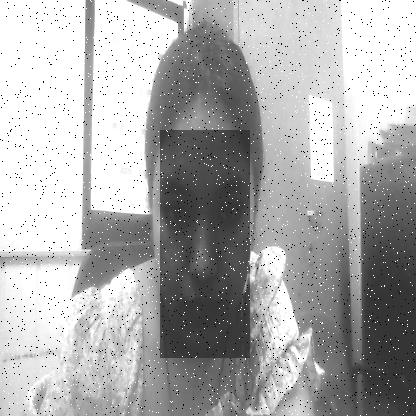Normal: (160, 130, 250, 358)
